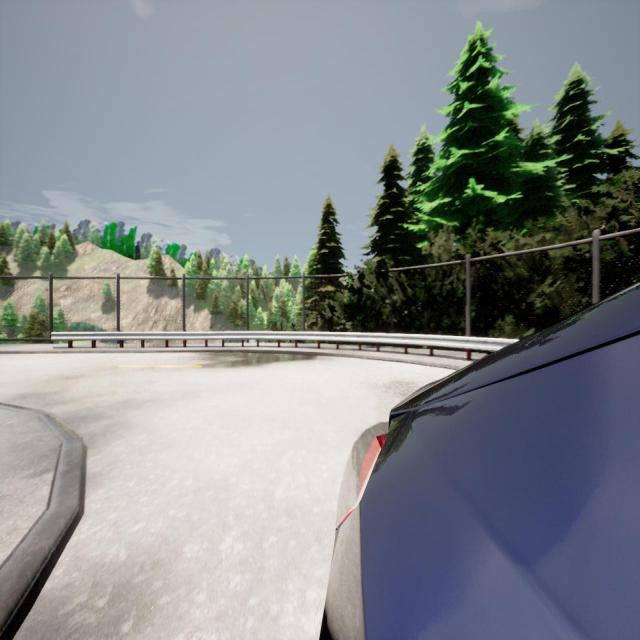Vehicle: (322, 281, 639, 640)
